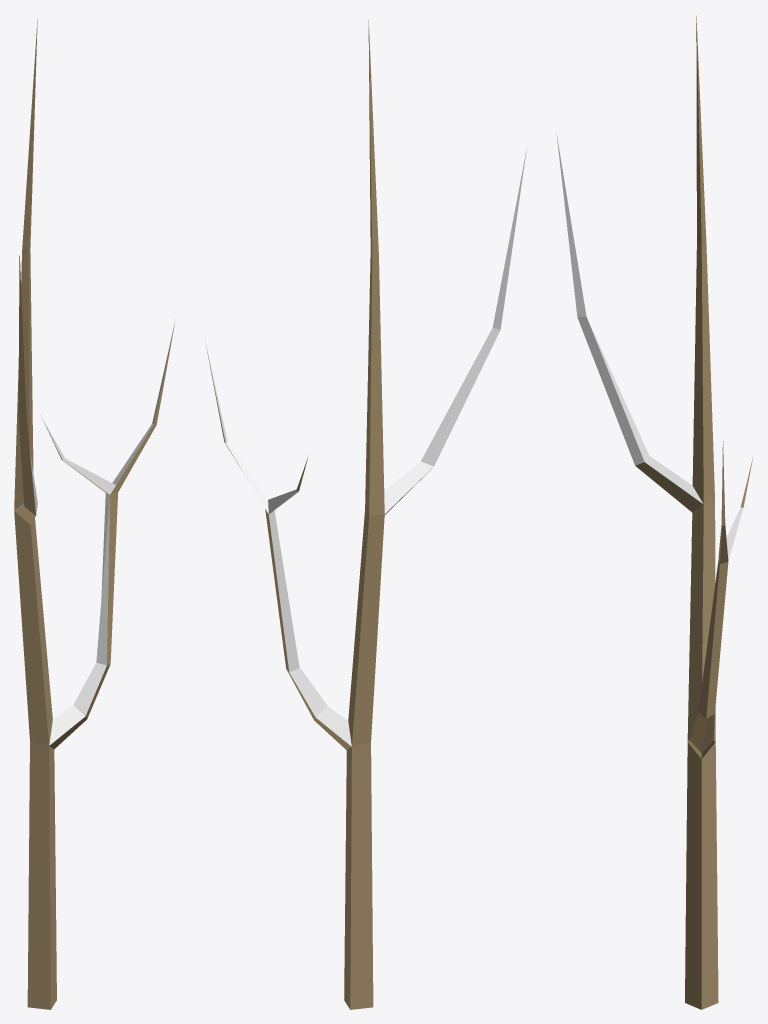
The model's file is Random_Tree_NoLeaves_s_Snow_BT_01.fbx.
The picture shows the model from 3 angles, left to right: view 1: azimuth 30°, elevation 25°; view 2: azimuth 150°, elevation 25°; view 3: azimuth 270°, elevation 25°; orthographic projection.
Parts seen in each view (by area): view 1: Random_Tree_NoLeaves_s_Snow_BT_01; view 2: Random_Tree_NoLeaves_s_Snow_BT_01; view 3: Random_Tree_NoLeaves_s_Snow_BT_01.
Boxes of the visible parts, left/top/right/bottom form: Random_Tree_NoLeaves_s_Snow_BT_01: left=14, top=19, right=175, bottom=1009; Random_Tree_NoLeaves_s_Snow_BT_01: left=205, top=20, right=527, bottom=1009; Random_Tree_NoLeaves_s_Snow_BT_01: left=556, top=15, right=752, bottom=1009.
Bounding box in the file's own units: 91.7 × 362 × 65.8.
